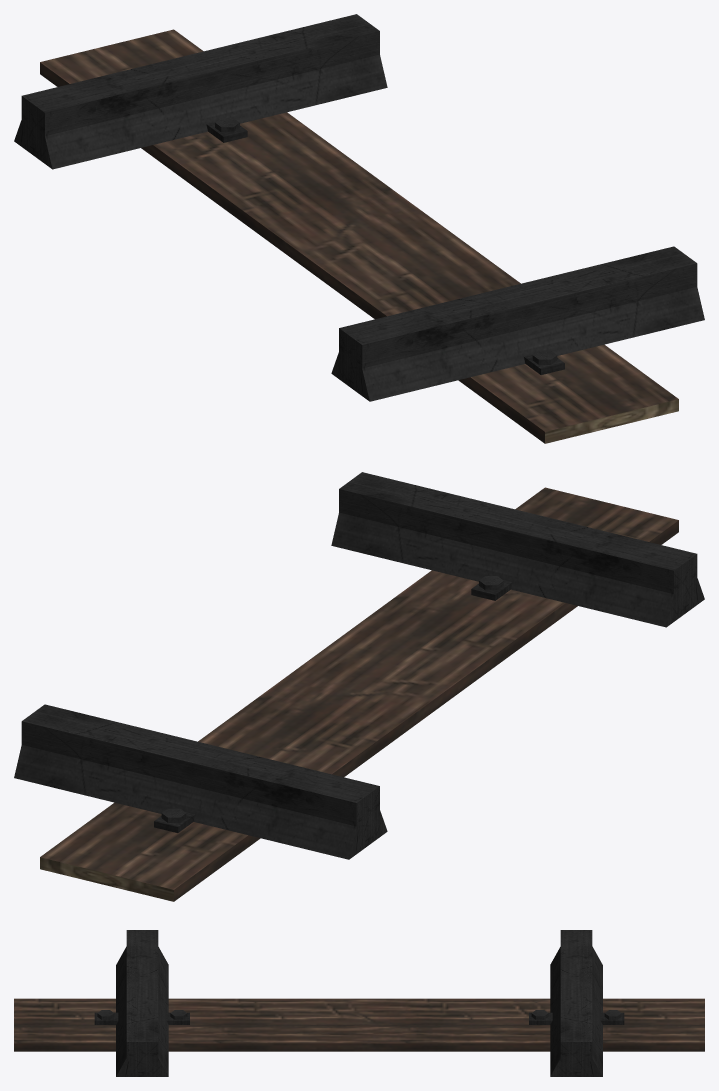
File: locomotive-01-rail-1x.fbx
3 views of the same model, one above another, from view 1: azimuth 30°, elevation 25°; view 2: azimuth 150°, elevation 25°; view 3: azimuth 270°, elevation 25° (orthographic). The views are drawn at different scales.
Parts seen in each view (by area): view 1: Cube.005; view 2: Cube.005; view 3: Cube.005.
Part boxes in pixels (x1,y1,x2,y2): Cube.005: [14, 14, 704, 443]; Cube.005: [14, 472, 704, 901]; Cube.005: [14, 930, 704, 1076].
Bounding box in the file's own units: 1 × 0.1799 × 2.61.
